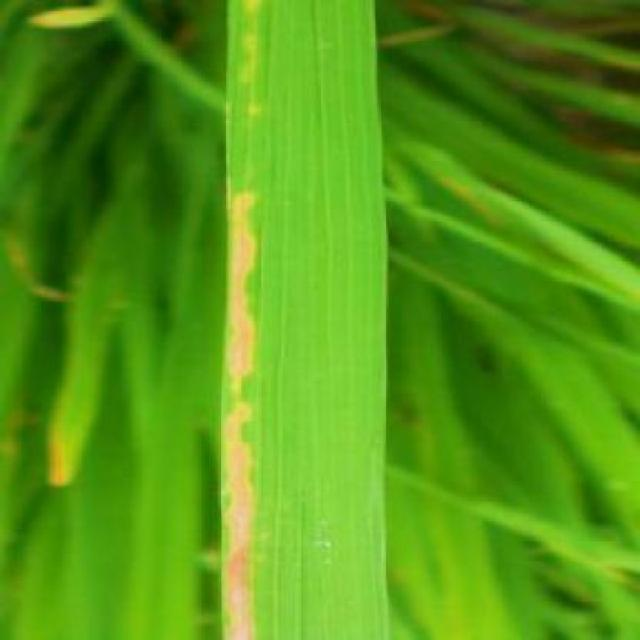Brown_Spot: (210, 0, 395, 638)
